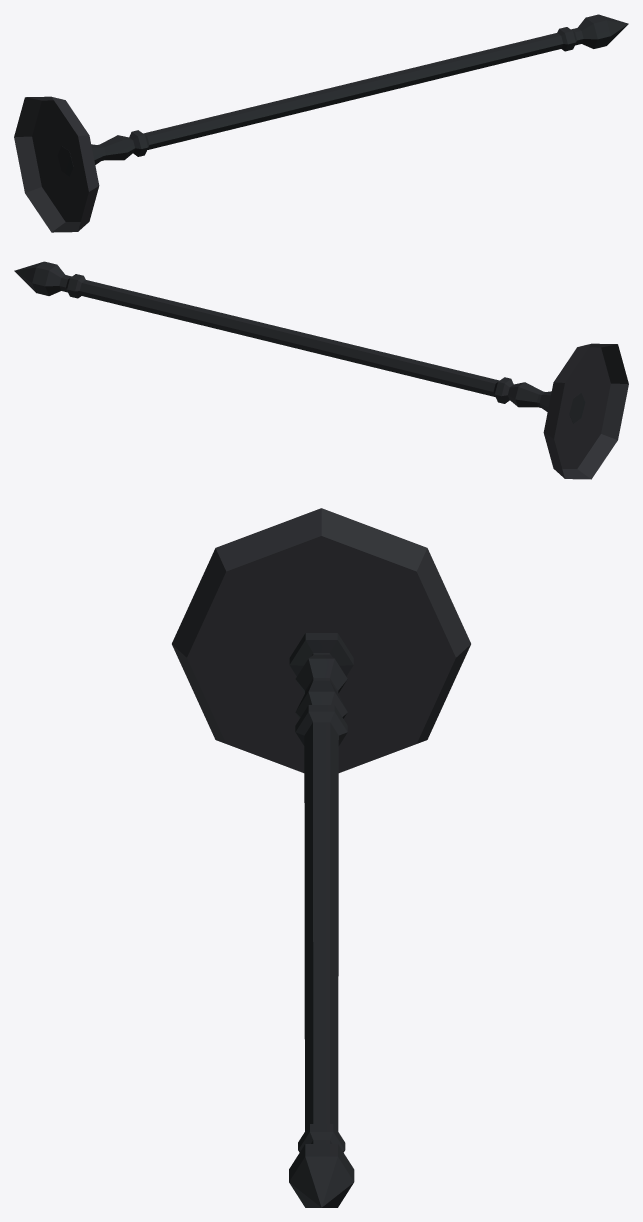
File: kingdom_SM_Prop_Sign_Bracket_04.gltf
3 views of the same model, one above another, from view 1: azimuth 30°, elevation 25°; view 2: azimuth 150°, elevation 25°; view 3: azimuth 270°, elevation 25° (orthographic). The views are drawn at different scales.
Visible parts, largest first — view 1: SM_Prop_Sign_Bracket_04; view 2: SM_Prop_Sign_Bracket_04; view 3: SM_Prop_Sign_Bracket_04.
Boxes of the visible parts, <box> form: SM_Prop_Sign_Bracket_04: <box>14,14,628,232</box>; SM_Prop_Sign_Bracket_04: <box>14,261,628,479</box>; SM_Prop_Sign_Bracket_04: <box>172,508,470,1207</box>.
Size of the model in its own units: 2.23 by 0.5015 by 0.5015.
Materials: 1 (1 with a texture image).
